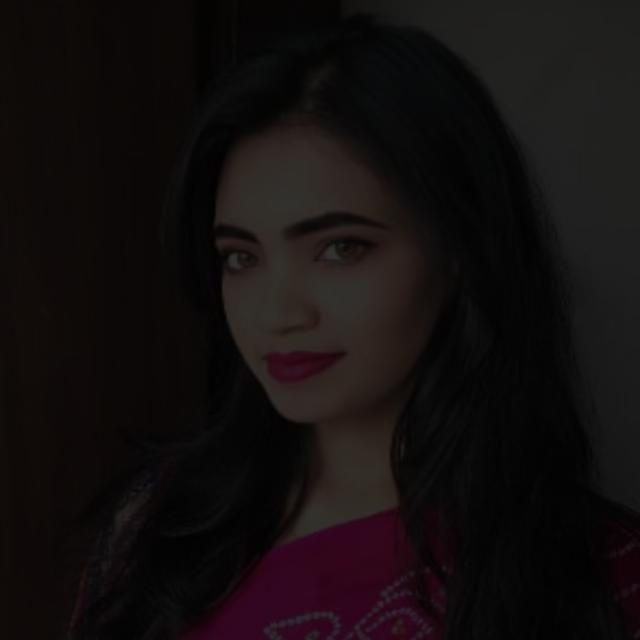Happy: (139, 133, 477, 458)
